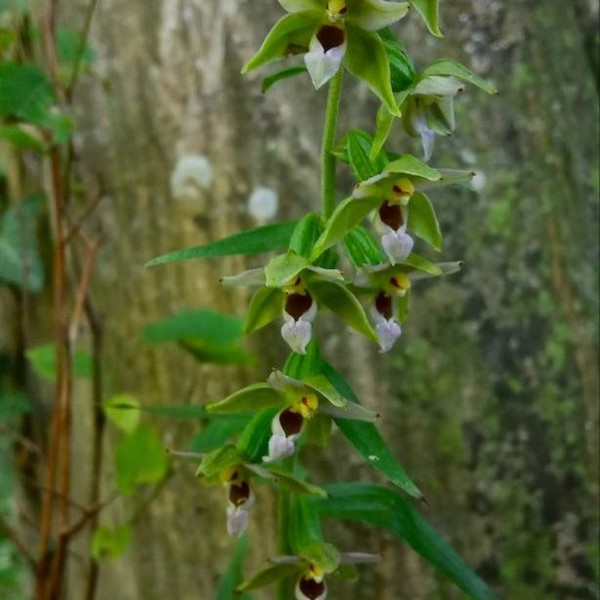obstacle: (230, 33, 426, 580)
